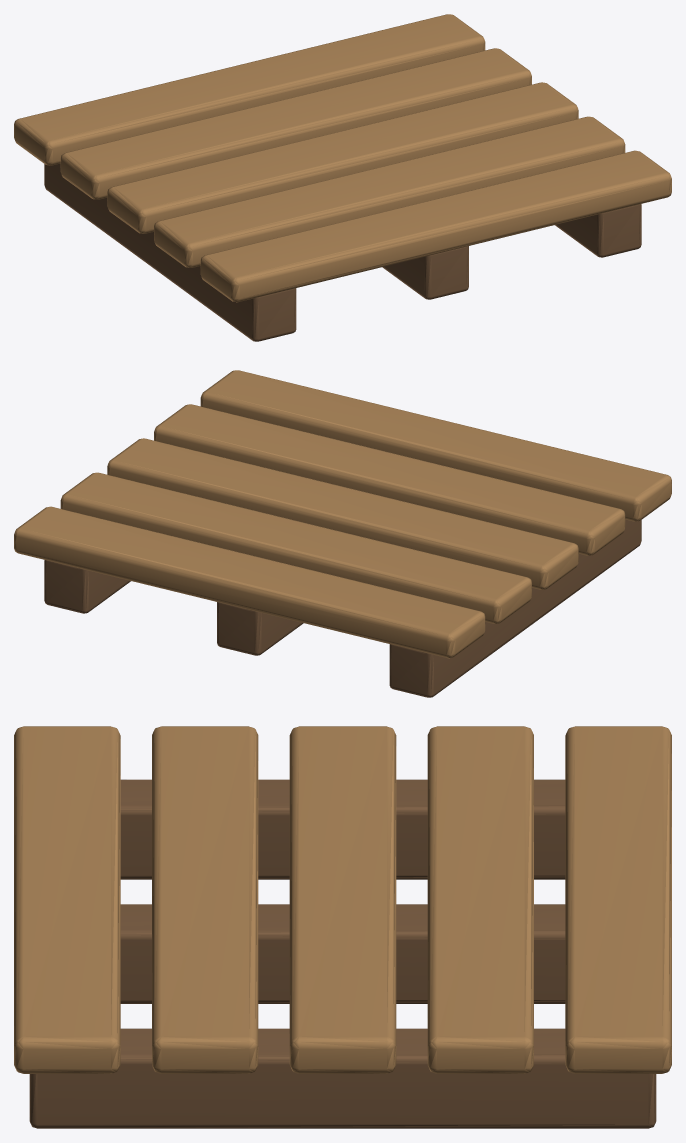
The model's file is pallet.glb.
The picture shows the model from 3 angles, top to bottom: view 1: azimuth 30°, elevation 25°; view 2: azimuth 150°, elevation 25°; view 3: azimuth 270°, elevation 25°; orthographic projection. The views are drawn at different scales.
Parts seen in each view (by area): view 1: Keep_Mesh; view 2: Keep_Mesh; view 3: Keep_Mesh.
Boxes of the visible parts, x1,y1,x2,y2 form: Keep_Mesh: (14, 14, 671, 341); Keep_Mesh: (14, 370, 671, 697); Keep_Mesh: (14, 726, 671, 1128).
Bounding box in the file's own units: 1.2 × 0.1925 × 1.05.
